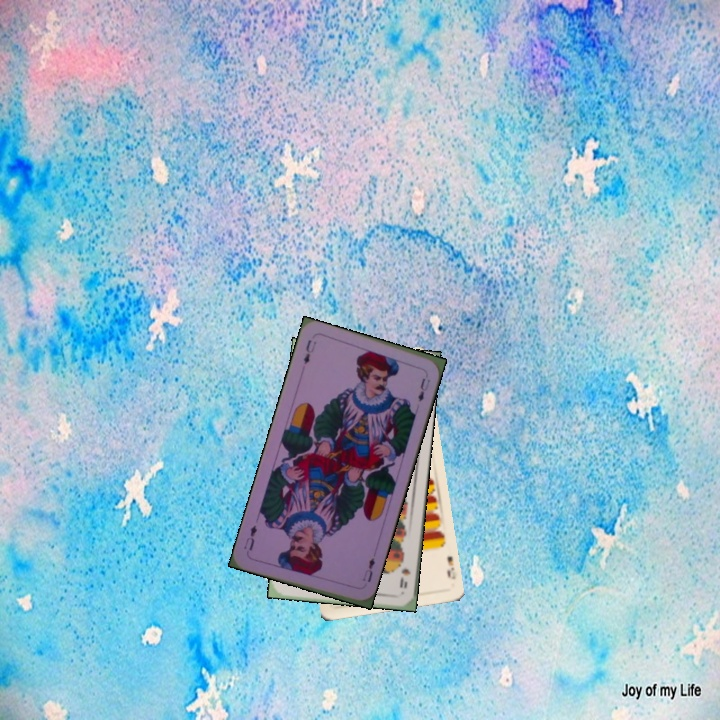E9: (443, 552, 458, 582)
EU: (299, 336, 319, 367), (359, 553, 378, 585)
S9: (395, 553, 413, 591)
